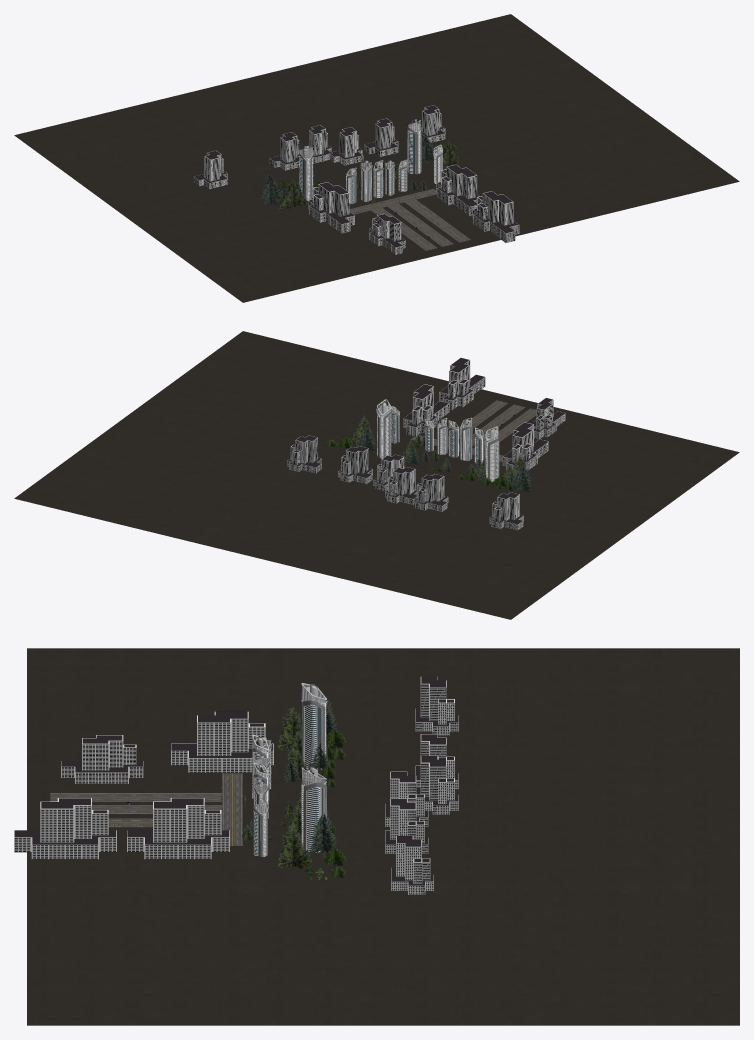
File: mark_building_v4.glb
3 renders of one model, top to bottom at view 1: azimuth 30°, elevation 25°; view 2: azimuth 150°, elevation 25°; view 3: azimuth 270°, elevation 25°, orthographic. The views are drawn at different scales.
Visible parts, largest first — view 1: SM_streetview_3, SM_streetview_9, SM_streetview_34, SM_streetview_8, SM_streetview_7, SM_streetview_14, SM_streetview_17, SM_streetview_13, SM_streetview_28, SM_streetview_16, SM_streetview_29; view 2: SM_streetview_3, SM_streetview_9, SM_streetview_34, SM_streetview_8, SM_streetview_14, SM_streetview_17, SM_streetview_7, SM_streetview_29, SM_streetview_13, SM_streetview_28, SM_streetview_16, SM_streetview_31; view 3: SM_streetview_3, SM_streetview_9, SM_streetview_34, SM_streetview_8, SM_streetview_7, SM_streetview_14, SM_streetview_28, SM_streetview_17, SM_streetview_16, SM_streetview_29, SM_streetview_13, SM_streetview_31.
Part boxes in pixels (<box>): SM_streetview_3: <box>14,14,739,302</box>; SM_streetview_9: <box>193,108,518,254</box>; SM_streetview_34: <box>194,105,518,247</box>; SM_streetview_8: <box>193,105,519,254</box>; SM_streetview_7: <box>349,188,470,250</box>; SM_streetview_14: <box>299,119,442,203</box>; SM_streetview_17: <box>299,132,442,203</box>; SM_streetview_13: <box>299,124,442,202</box>; SM_streetview_28: <box>279,120,458,209</box>; SM_streetview_16: <box>299,131,442,203</box>; SM_streetview_29: <box>261,118,433,204</box>; SM_streetview_3: <box>14,331,739,619</box>; SM_streetview_9: <box>287,360,565,530</box>; SM_streetview_34: <box>288,358,564,524</box>; SM_streetview_8: <box>287,357,565,530</box>; SM_streetview_14: <box>376,399,499,480</box>; SM_streetview_17: <box>377,414,498,481</box>; SM_streetview_7: <box>410,400,536,461</box>; SM_streetview_29: <box>355,401,531,491</box>; SM_streetview_13: <box>376,409,499,484</box>; SM_streetview_28: <box>352,399,529,485</box>; SM_streetview_16: <box>378,415,497,478</box>; SM_streetview_31: <box>338,421,514,490</box>; SM_streetview_3: <box>27,648,739,1025</box>; SM_streetview_9: <box>14,684,458,894</box>; SM_streetview_34: <box>14,676,458,885</box>; SM_streetview_8: <box>14,677,458,894</box>; SM_streetview_7: <box>50,773,242,845</box>; SM_streetview_14: <box>252,683,327,856</box>; SM_streetview_28: <box>241,707,313,869</box>; SM_streetview_17: <box>252,703,326,856</box>; SM_streetview_16: <box>254,705,323,856</box>; SM_streetview_29: <box>249,697,337,855</box>; SM_streetview_13: <box>252,694,326,856</box>; SM_streetview_31: <box>258,730,346,868</box>.
Size of the model in its own units: 53.25 by 6.05 by 43.28.
30 materials, 27 textured.
